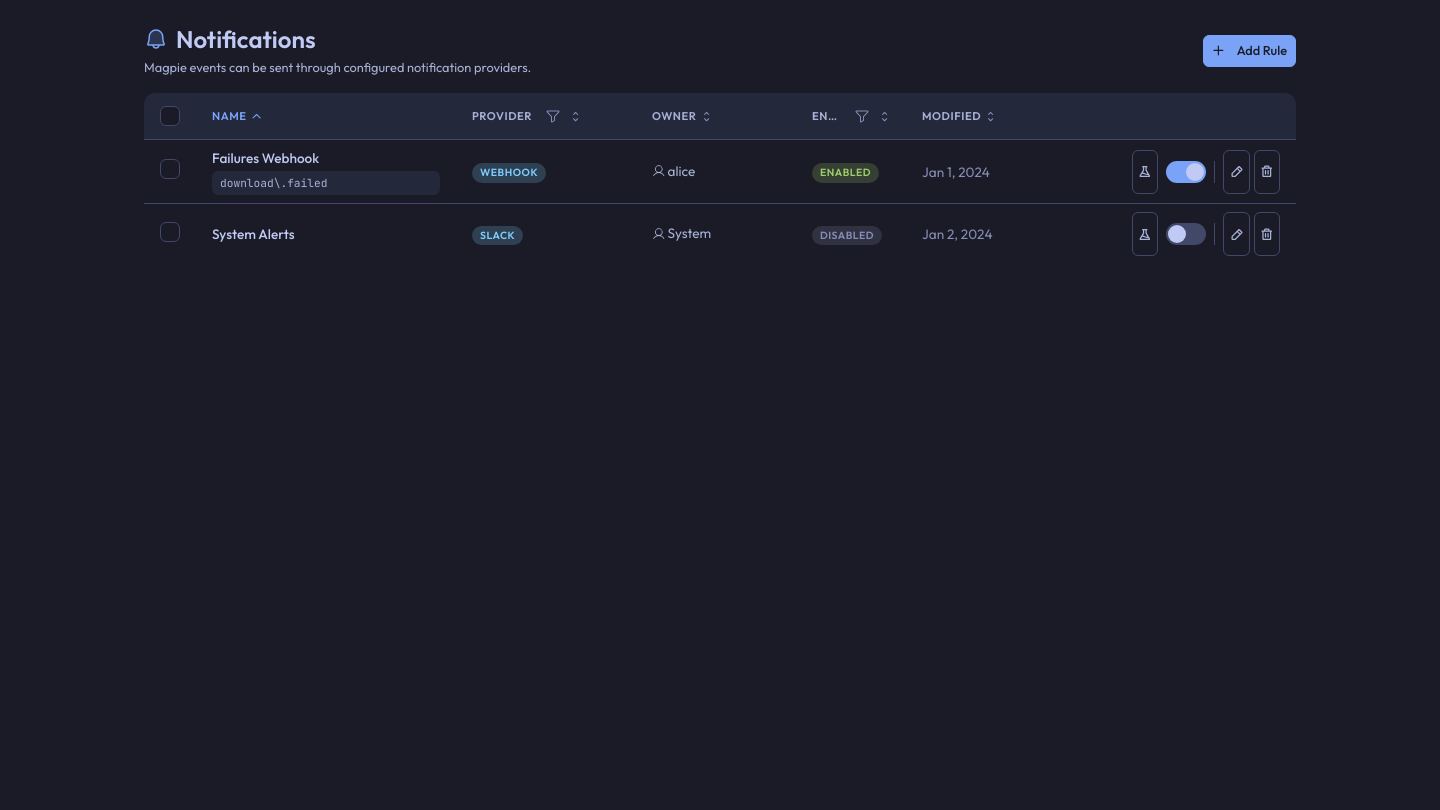
it: NotificationsPage row actions › opens the delete confirm dialog from the row delete button
Click the button named "delete failures webhook": (1267, 172) x1=1254 y1=150 x2=1280 y2=194
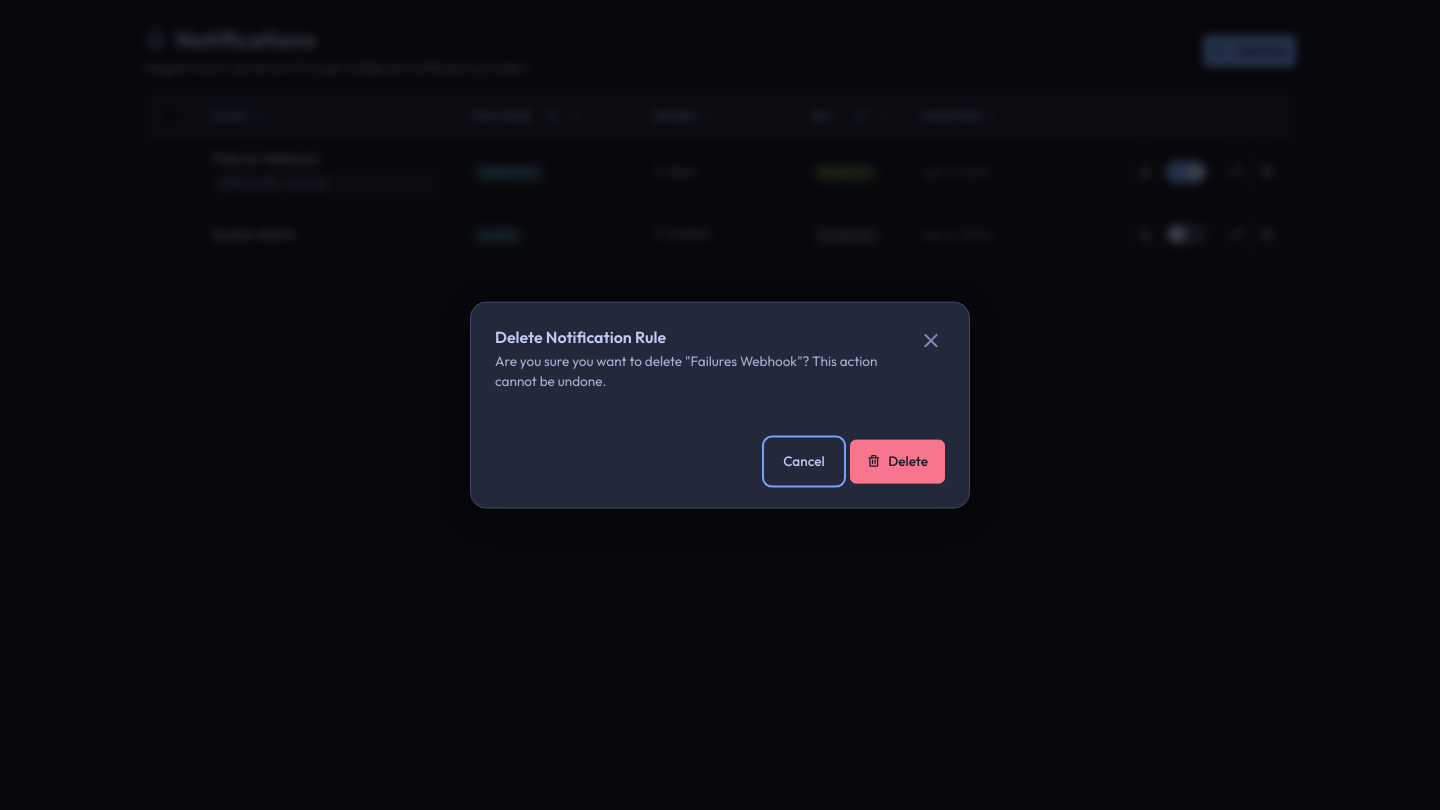
Expected: the dialog is shown, x1=470 y1=302 x2=970 y2=508
